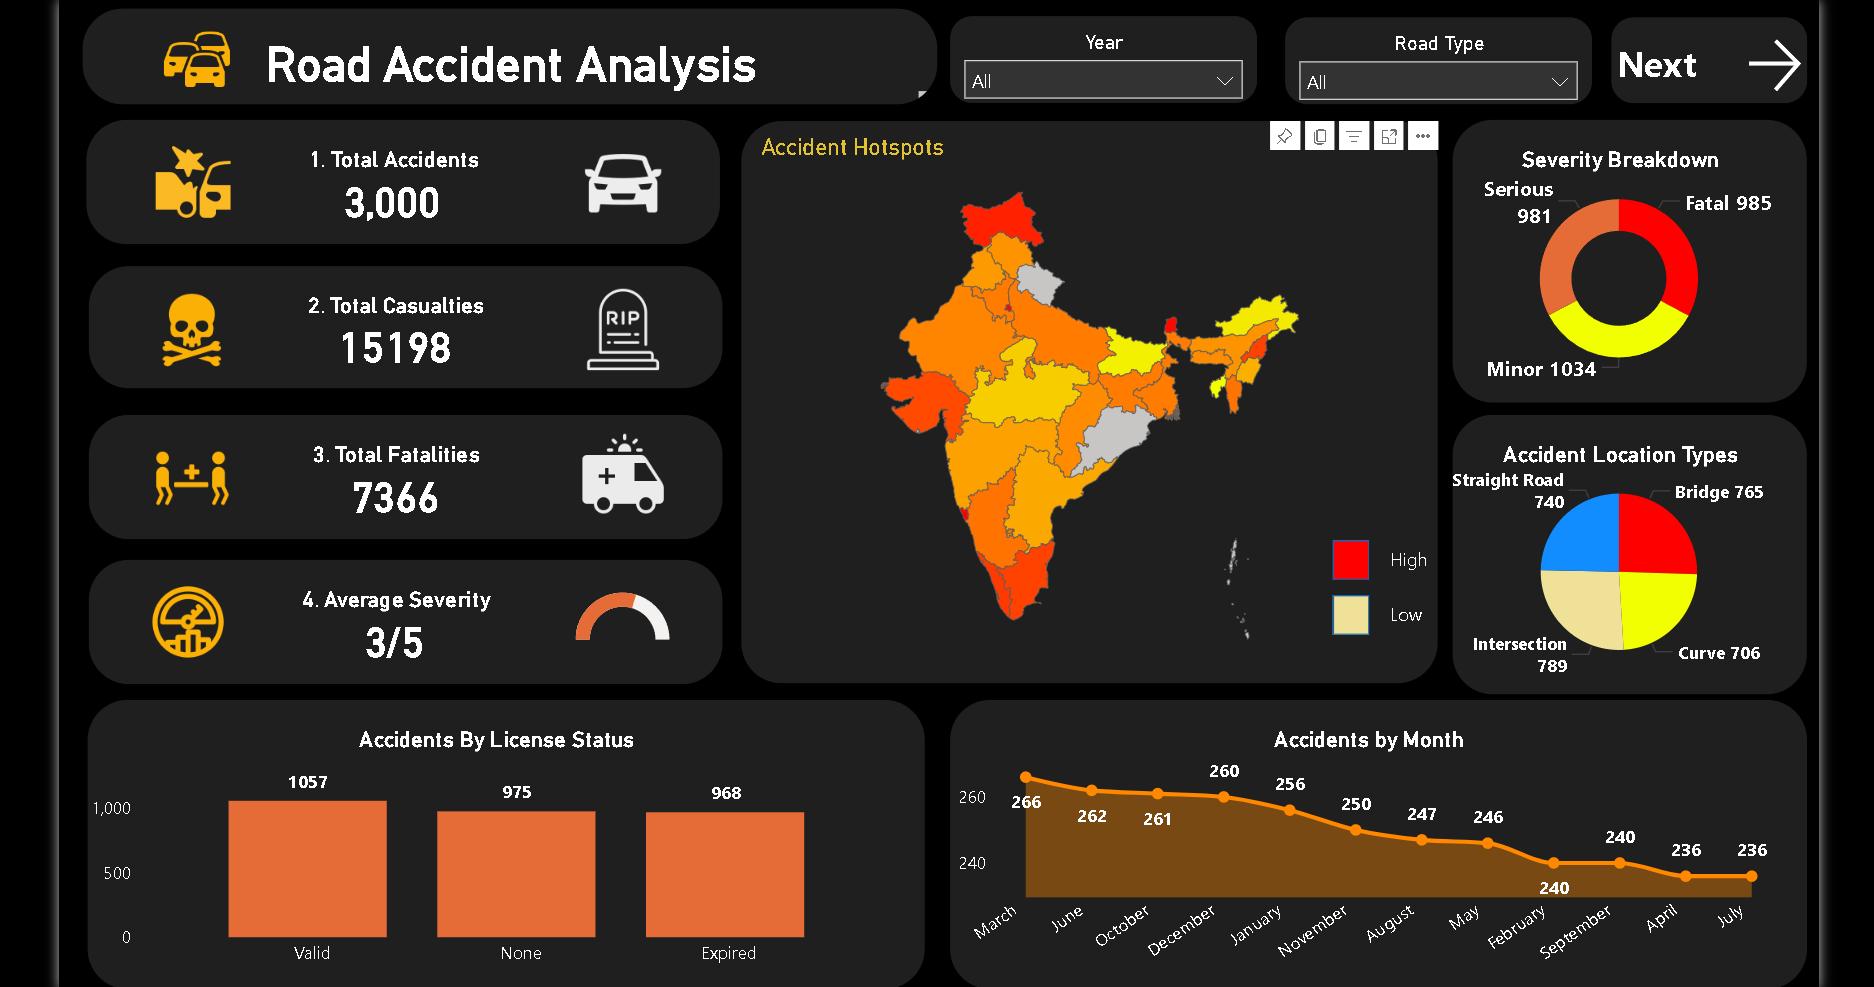

Layout of this report page (visuals, bound fields, positions):
{"tool":"powerbi","page":{"name":"Home","canvas":[1280,720],"ordinal":0},"visuals":[{"type":"card","title":"2. Total Casualties","fields":{"Values":["Sum(accident(18-23).Number of Casualties)"]},"box":[20.6,192.4,462.4,90.6],"z":1000},{"type":"textbox","title":"Road Accident Analysis","box":[16.5,5.5,623,71.4],"z":1500},{"type":"image","box":[365.6,103.7,89.2,59],"z":2000},{"type":"image","box":[52.7,102.4,89.2,59],"z":3000},{"type":"image","box":[63.1,19.2,75.5,48],"z":4000},{"type":"card","title":"3. Total Fatalities","fields":{"Values":["Sum(accident(18-23).Number of Fatalities)"]},"box":[20.6,300.8,462.4,91.9],"z":5000},{"type":"image","box":[52.1,211.6,89.2,59],"z":6000},{"type":"image","box":[365,210.2,89.2,59],"z":7000},{"type":"card","title":"1. Total Accidents","fields":{"Values":["CountNonNull(accident(18-23).Index)"]},"box":[19.2,86.7,462.4,91.9],"z":8000},{"type":"image","box":[52.1,315.9,89.2,59],"z":9000},{"type":"image","box":[365,315.9,89.2,59],"z":10000},{"type":"card","title":"4. Average Severity ","fields":{"Values":["accident(18-23).avg_sererity"]},"box":[20.6,406.2,462.4,91.9],"z":11000},{"type":"gauge","fields":{"MaxValue":["Max(accident(18-23).severity)1"],"Y":["Avg(accident(18-23).severity)"]},"box":[370.5,406.2,93.3,75.5],"z":12000},{"type":"image","box":[49.4,422.6,89.2,59],"z":13000},{"type":"columnChart","title":"Accidents By License Status","fields":{"Category":["accident(18-23).Driver License Status"],"Y":["CountNonNull(accident(18-23).Driver License Status)"]},"box":[19.8,508.1,610.5,211.6],"z":14000},{"type":"shapeMap","title":"Accident Hotspots","fields":{"Category":["accident(18-23).State Name"],"Value":["Count(accident(18-23).Index)"]},"box":[495.4,87.2,508.1,410.5],"z":15000},{"type":"shape","box":[926.7,393,26.7,29.1],"z":16000},{"type":"textbox","box":[962.8,393,40.7,29.1],"z":17000},{"type":"shape","box":[926.7,432.6,26.7,29.1],"z":18000},{"type":"textbox","box":[962.8,432.6,40.7,29.1],"z":19000},{"type":"areaChart","title":"Accidents by Month","fields":{"Category":["accident(18-23).Month"],"Y":["CountNonNull(accident(18-23).Index)"]},"box":[647.7,508.1,624.4,211.6],"z":20000},{"type":"pieChart","title":"Accident Location Types","fields":{"Series":["accident(18-23).Accident Location Details"],"Y":["CountNonNull(accident(18-23).Index)"]},"box":[1012.8,301.2,259.3,204.7],"z":21000},{"type":"donutChart","title":"Severity Breakdown","fields":{"Series":["accident(18-23).Accident Severity"],"Y":["CountNonNull(accident(18-23).Index)"]},"box":[1012.8,86,259.3,207],"z":22000},{"type":"slicer","title":"Year","fields":{"Values":["accident(18-23).Year"]},"box":[647.7,10.5,224.4,65.1],"z":23000},{"type":"slicer","title":"Road Type","fields":{"Values":["accident(18-23).Road Type"]},"box":[890.7,11.6,224.4,65.1],"z":24000},{"type":"actionButton","box":[1127.9,11.6,144.2,64],"z":25000}]}

Visuals, with their boxes on the page's 1280x720 design canvas (x1, y1, x2, y2). These are canvas units, not pixel positions in the 1874x987 screenshot, which may show the page scaled, cropped or inside an application window:
"2. Total Casualties" card: <region>21, 192, 483, 283</region>
"Road Accident Analysis" textbox: <region>16, 6, 640, 77</region>
image: <region>366, 104, 455, 163</region>
image: <region>53, 102, 142, 161</region>
image: <region>63, 19, 139, 67</region>
"3. Total Fatalities" card: <region>21, 301, 483, 393</region>
image: <region>52, 212, 141, 271</region>
image: <region>365, 210, 454, 269</region>
"1. Total Accidents" card: <region>19, 87, 482, 179</region>
image: <region>52, 316, 141, 375</region>
image: <region>365, 316, 454, 375</region>
"4. Average Severity " card: <region>21, 406, 483, 498</region>
gauge - Max(accident(18-23).severity)1 x Avg(accident(18-23).severity): <region>370, 406, 464, 482</region>
image: <region>49, 423, 139, 482</region>
"Accidents By License Status" columnChart: <region>20, 508, 630, 720</region>
"Accident Hotspots" shapeMap: <region>495, 87, 1004, 498</region>
shape: <region>927, 393, 953, 422</region>
textbox: <region>963, 393, 1004, 422</region>
shape: <region>927, 433, 953, 462</region>
textbox: <region>963, 433, 1004, 462</region>
"Accidents by Month" areaChart: <region>648, 508, 1272, 720</region>
"Accident Location Types" pieChart: <region>1013, 301, 1272, 506</region>
"Severity Breakdown" donutChart: <region>1013, 86, 1272, 293</region>
"Year" slicer: <region>648, 10, 872, 76</region>
"Road Type" slicer: <region>891, 12, 1115, 77</region>
actionButton: <region>1128, 12, 1272, 76</region>
